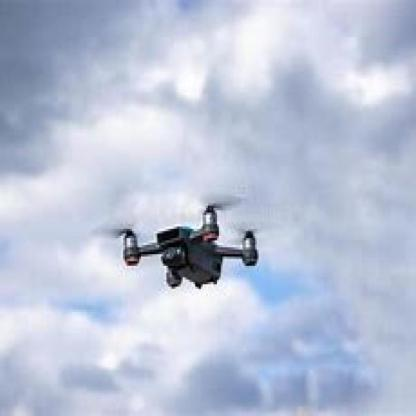drone: (98, 189, 268, 295)
